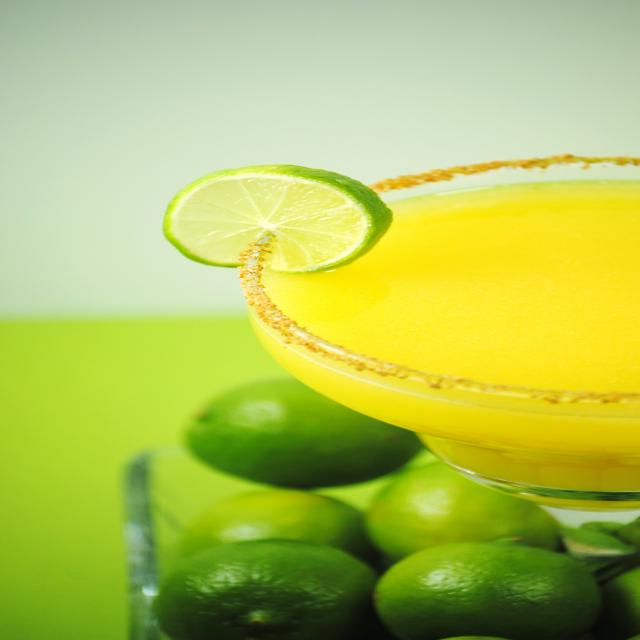Lemon: (374, 538, 602, 632), (152, 542, 358, 640), (162, 164, 388, 237)
